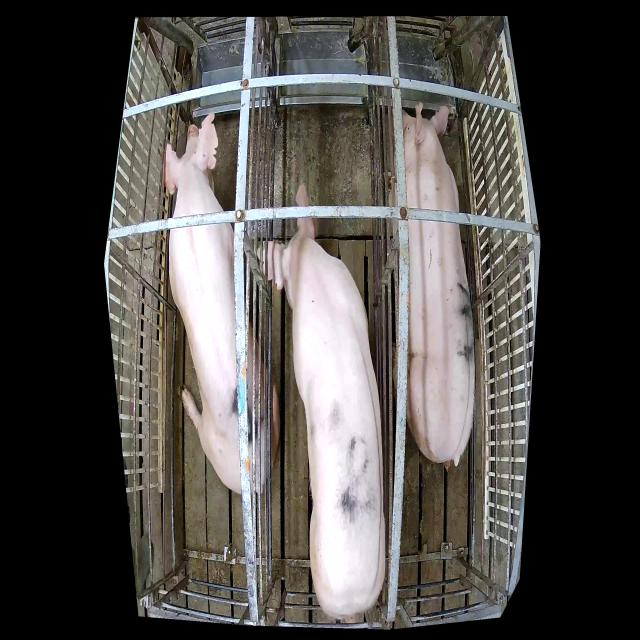pig: (256, 184, 386, 617), (162, 114, 280, 496), (389, 102, 475, 470)
